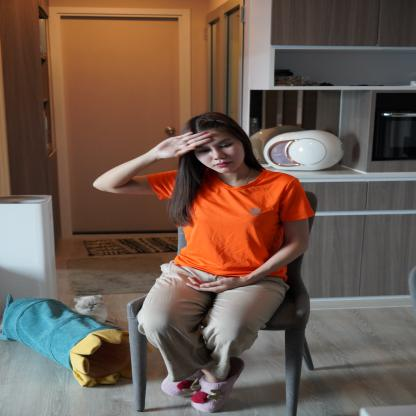Sick: (142, 127, 219, 162)
